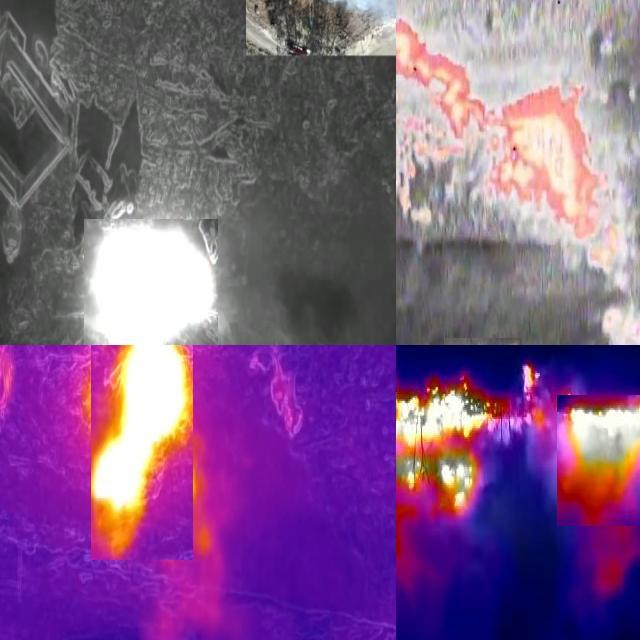fire: (489, 79, 640, 346), (397, 357, 547, 548), (92, 346, 194, 561), (397, 18, 493, 239), (85, 220, 219, 346), (558, 396, 640, 527)
